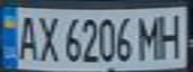0: (97, 15, 118, 63)
2: (78, 15, 100, 64)
6: (60, 13, 84, 64), (115, 15, 139, 63)
A: (12, 11, 39, 62)
H: (154, 9, 190, 60)
M: (136, 11, 163, 61)
X: (33, 12, 60, 63)
